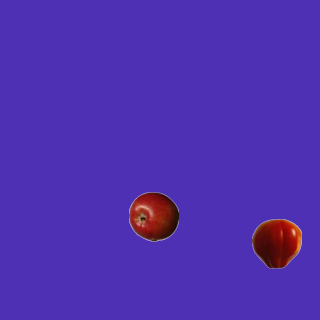Apple Braeburn: (128, 191, 178, 241)
Tomato 1: (251, 218, 301, 268)
